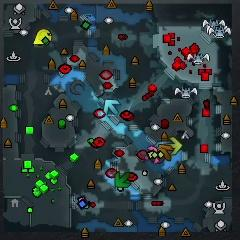p4: (34, 29, 53, 45)
x1: (146, 146, 159, 163)
x2: (165, 137, 182, 154)
x3: (104, 99, 120, 114)
x4: (115, 171, 130, 188)
x5: (158, 144, 172, 161)
